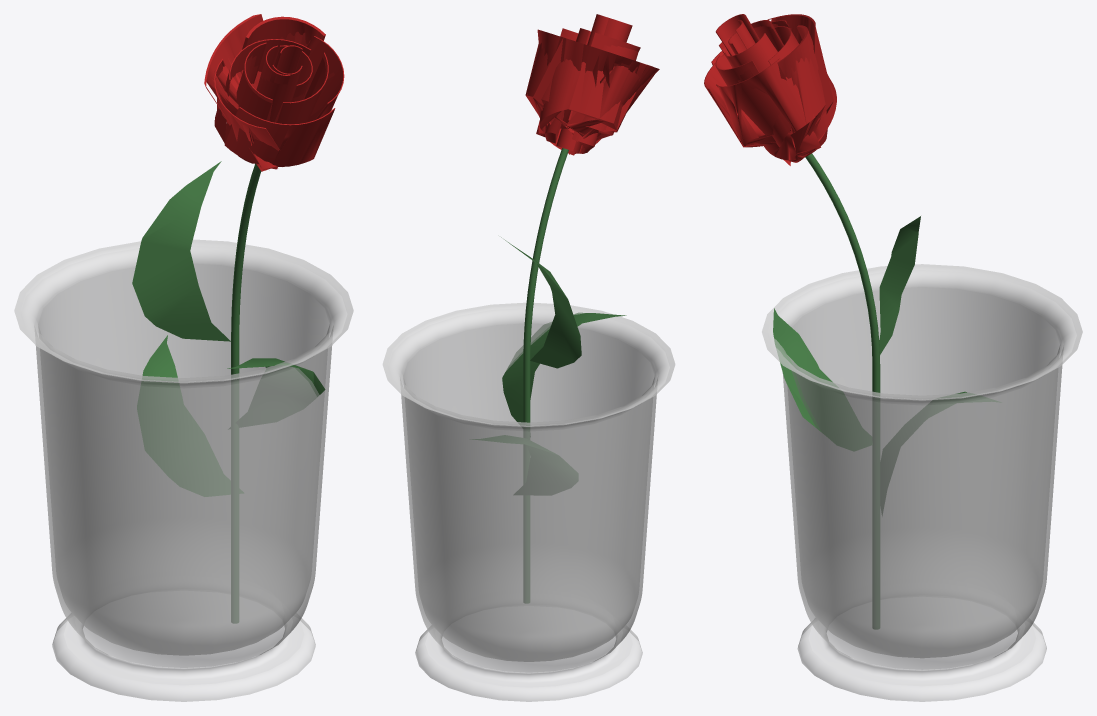
3 renders of one model, left to right at view 1: azimuth 30°, elevation 25°; view 2: azimuth 150°, elevation 25°; view 3: azimuth 270°, elevation 25°, orthographic. The views are drawn at different scales.
Visible parts, largest first — view 1: Mesh1 Component_49_1 Component_6_1 Model, Mesh2 Component_1_1 Component_6_1 Model, Mesh11 Component_4_1 Component_6_1 Model, Mesh10 Component_3_1 Component_6_1 Model, Mesh12 Component_5_1 Component_6_1 Model, Mesh9 Component_2_1 Component_6_1 Model, Mesh3 Component_1_1 Component_6_1 Model, Mesh4 Component_1_1 Component_6_1 Model; view 2: Mesh1 Component_49_1 Component_6_1 Model, Mesh2 Component_1_1 Component_6_1 Model, Mesh12 Component_5_1 Component_6_1 Model, Mesh11 Component_4_1 Component_6_1 Model, Mesh10 Component_3_1 Component_6_1 Model, Mesh9 Component_2_1 Component_6_1 Model, Mesh3 Component_1_1 Component_6_1 Model, Mesh4 Component_1_1 Component_6_1 Model; view 3: Mesh1 Component_49_1 Component_6_1 Model, Mesh2 Component_1_1 Component_6_1 Model, Mesh9 Component_2_1 Component_6_1 Model, Mesh12 Component_5_1 Component_6_1 Model, Mesh11 Component_4_1 Component_6_1 Model, Mesh10 Component_3_1 Component_6_1 Model.
Boxes of the visible parts, left/top/right/bottom form: Mesh1 Component_49_1 Component_6_1 Model: left=14, top=239, right=353, bottom=701; Mesh2 Component_1_1 Component_6_1 Model: left=204, top=14, right=344, bottom=171; Mesh11 Component_4_1 Component_6_1 Model: left=132, top=161, right=230, bottom=341; Mesh10 Component_3_1 Component_6_1 Model: left=137, top=335, right=243, bottom=496; Mesh12 Component_5_1 Component_6_1 Model: left=231, top=163, right=261, bottom=623; Mesh9 Component_2_1 Component_6_1 Model: left=227, top=358, right=325, bottom=428; Mesh3 Component_1_1 Component_6_1 Model: left=226, top=42, right=272, bottom=163; Mesh4 Component_1_1 Component_6_1 Model: left=275, top=45, right=302, bottom=73; Mesh1 Component_49_1 Component_6_1 Model: left=382, top=302, right=675, bottom=701; Mesh2 Component_1_1 Component_6_1 Model: left=525, top=18, right=659, bottom=155; Mesh12 Component_5_1 Component_6_1 Model: left=523, top=148, right=568, bottom=603; Mesh11 Component_4_1 Component_6_1 Model: left=501, top=237, right=581, bottom=368; Mesh10 Component_3_1 Component_6_1 Model: left=473, top=435, right=578, bottom=495; Mesh9 Component_2_1 Component_6_1 Model: left=502, top=312, right=626, bottom=436; Mesh3 Component_1_1 Component_6_1 Model: left=568, top=32, right=640, bottom=140; Mesh4 Component_1_1 Component_6_1 Model: left=556, top=14, right=608, bottom=150; Mesh1 Component_49_1 Component_6_1 Model: left=762, top=264, right=1082, bottom=701; Mesh2 Component_1_1 Component_6_1 Model: left=704, top=14, right=836, bottom=165; Mesh9 Component_2_1 Component_6_1 Model: left=773, top=308, right=872, bottom=450; Mesh12 Component_5_1 Component_6_1 Model: left=805, top=153, right=880, bottom=629; Mesh11 Component_4_1 Component_6_1 Model: left=879, top=216, right=920, bottom=354; Mesh10 Component_3_1 Component_6_1 Model: left=880, top=391, right=1000, bottom=515.
Bounding box in the file's own units: 10.22 × 22.21 × 12.05.
